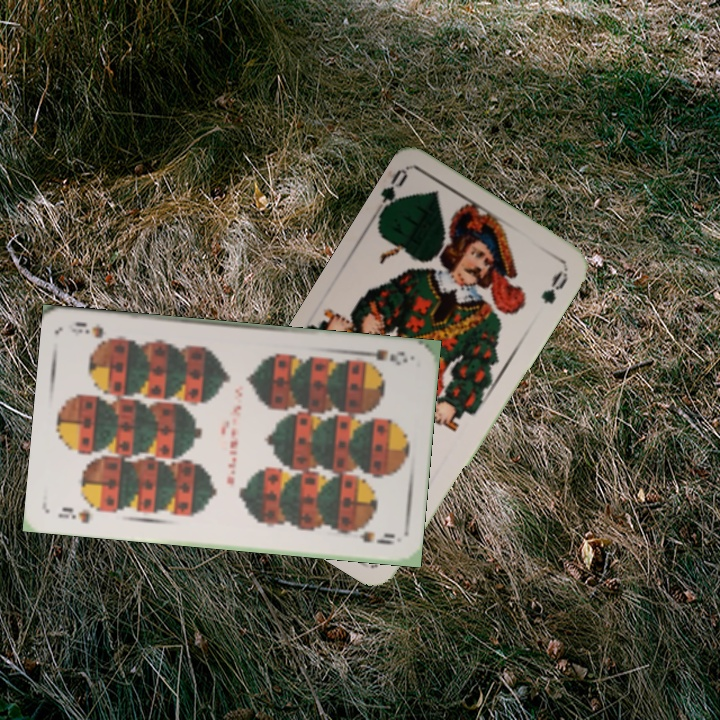GO: (369, 165, 411, 222)
S9: (354, 345, 410, 369), (54, 503, 93, 527)
